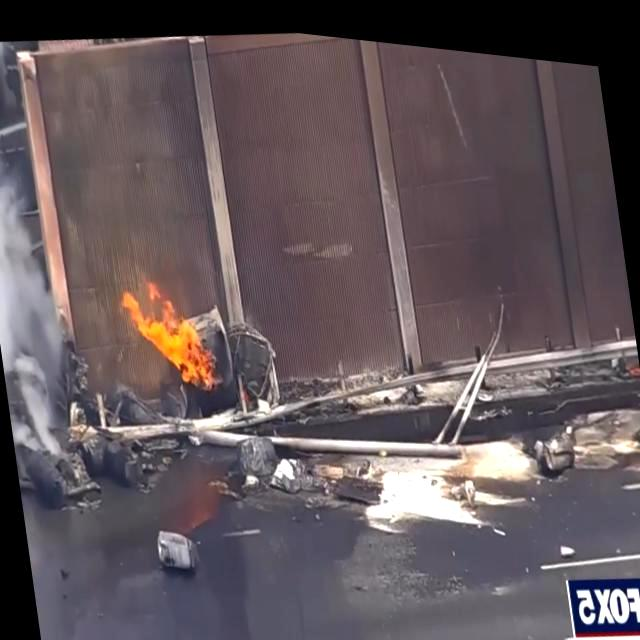fire: (118, 271, 222, 403)
